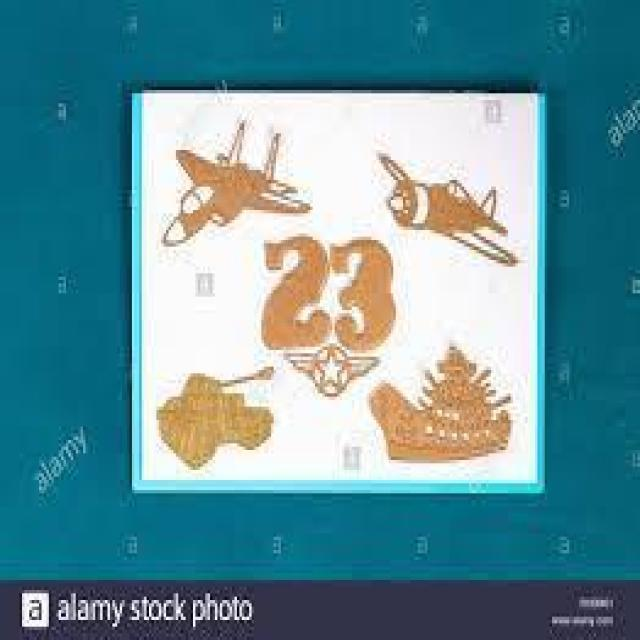MIL_MBT: (160, 363, 285, 463)
